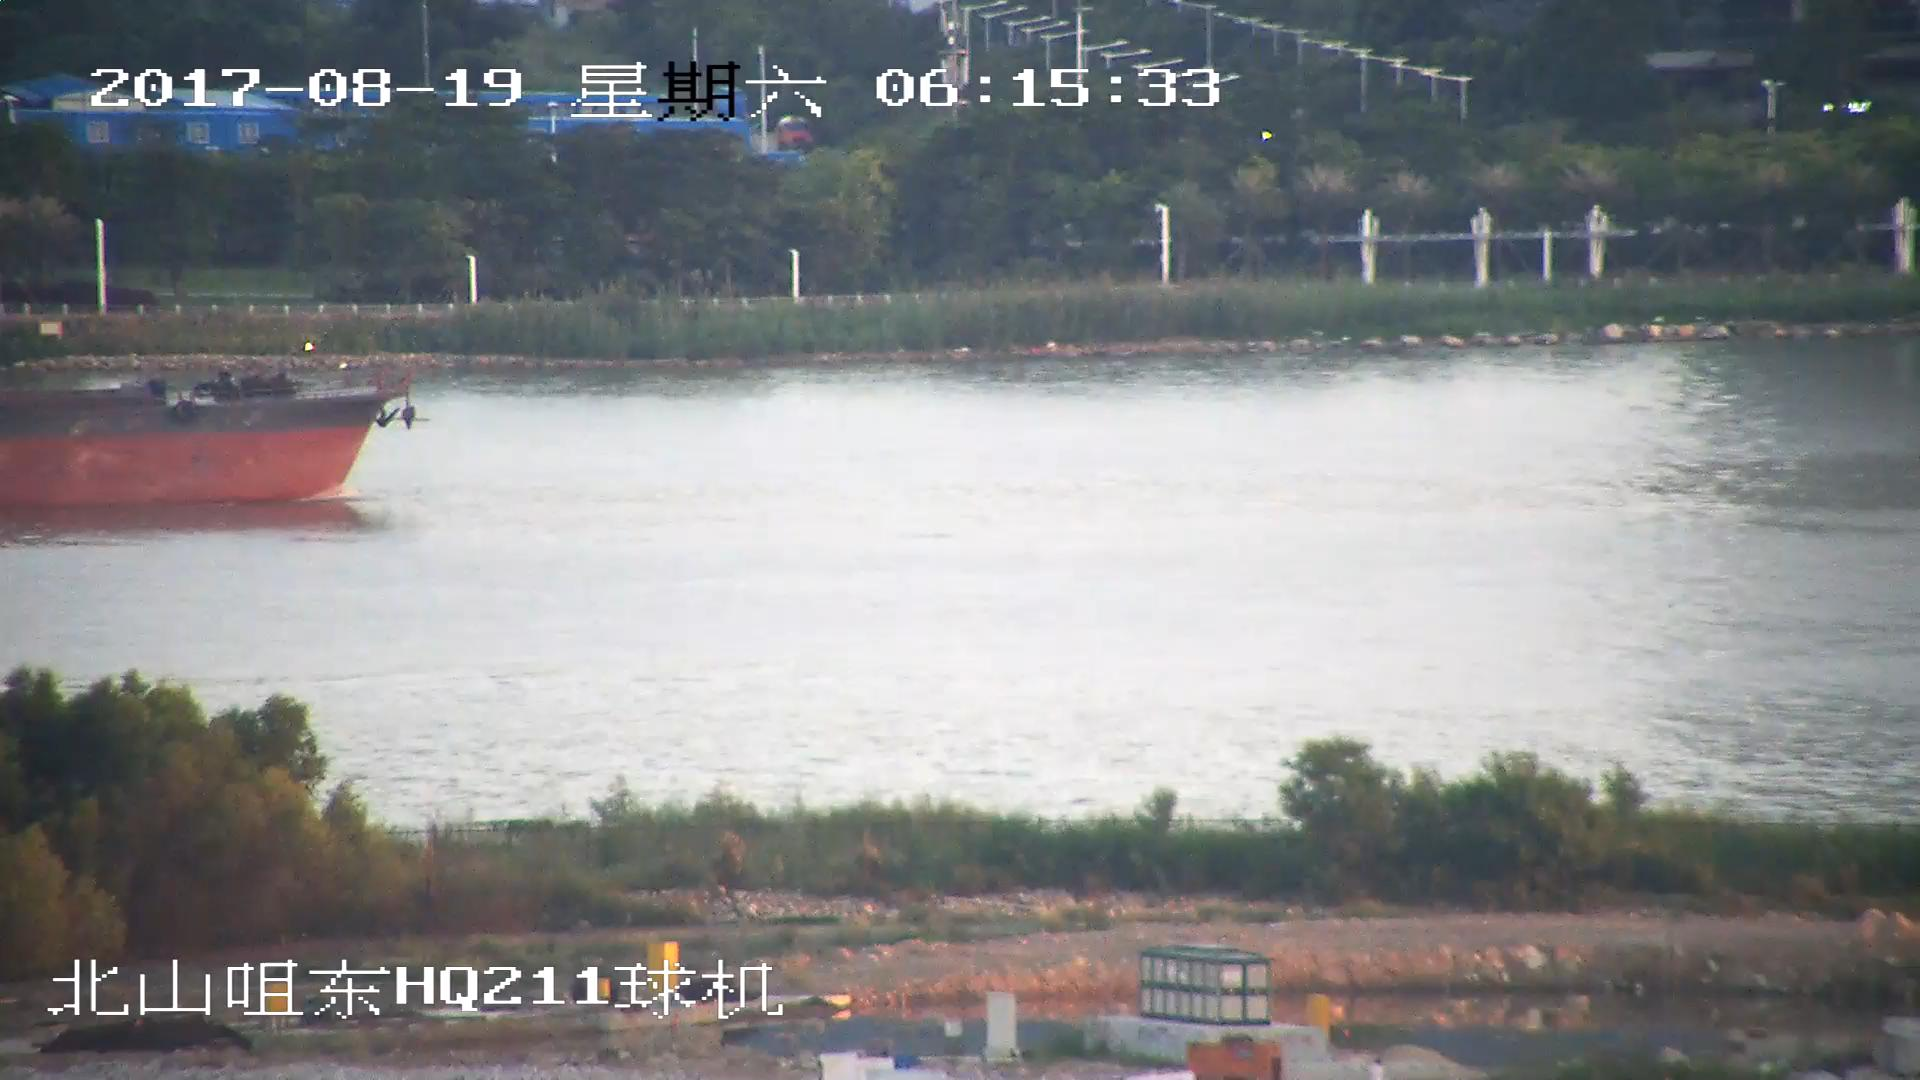bulk cargo carrier: (1, 359, 418, 505)
